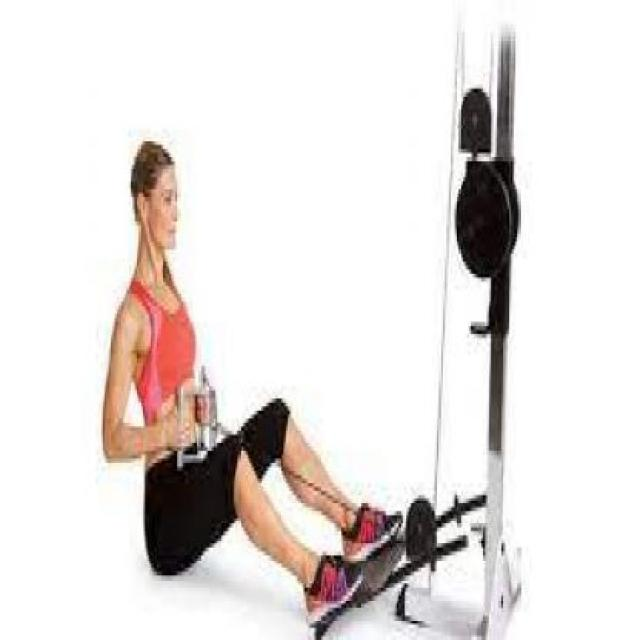Seated Cable Rows: (92, 9, 516, 640)
